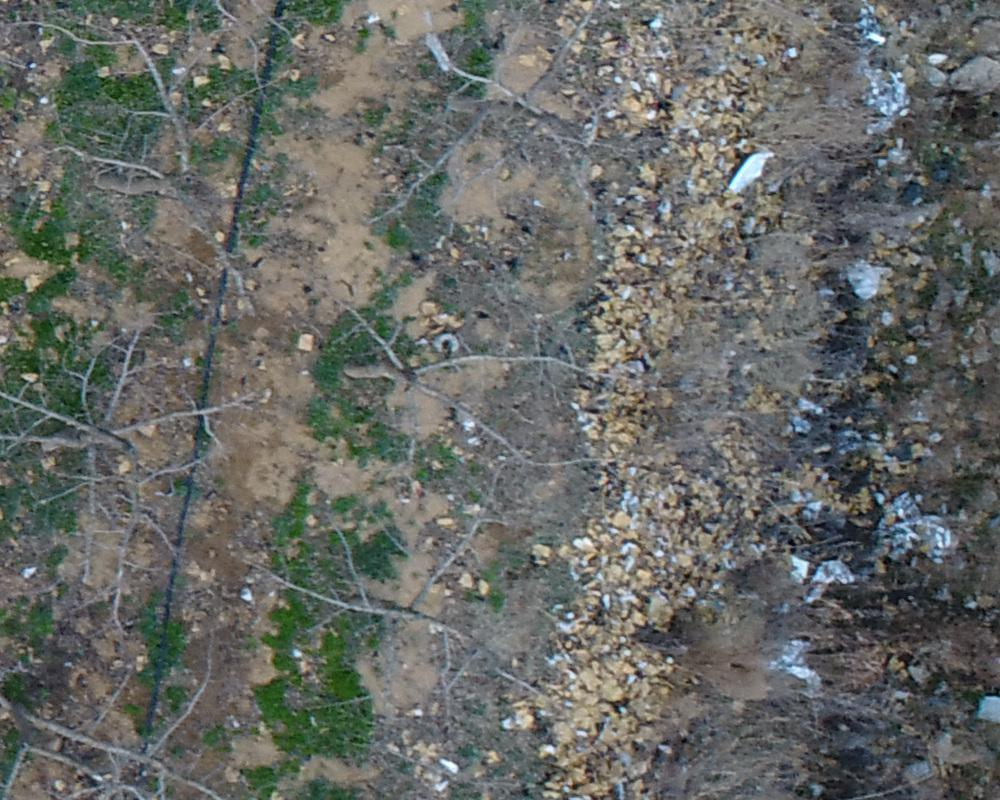apple: (240, 467, 538, 739), (10, 310, 263, 596), (10, 10, 299, 246), (311, 286, 623, 499), (394, 10, 649, 262), (10, 578, 252, 790)
